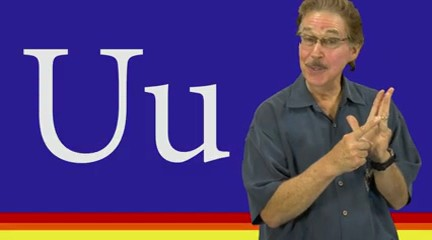U: (334, 83, 403, 175)
